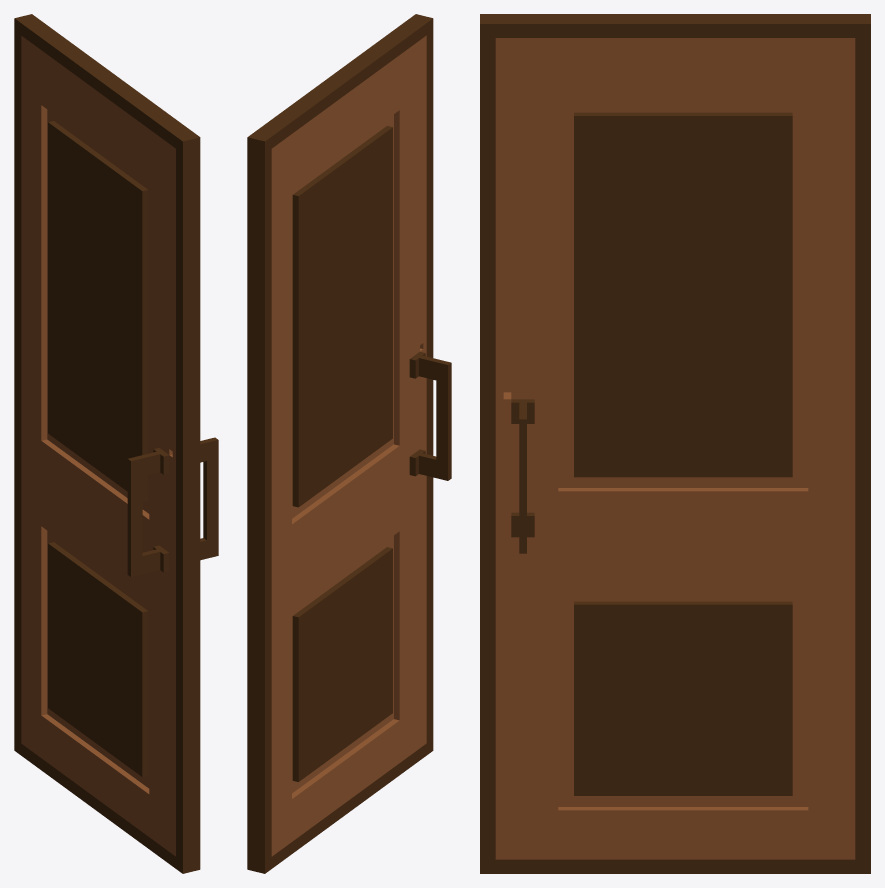
The model's file is SchoolPack-31-double door.obj.
3 views of the same model, side by side, from view 1: azimuth 30°, elevation 25°; view 2: azimuth 150°, elevation 25°; view 3: azimuth 270°, elevation 25° (orthographic). The views are drawn at different scales.
Parts seen in each view (by area): view 1: double door; view 2: double door; view 3: double door.
Boxes of the visible parts, x1,y1,x2,y2 form: double door: (14, 14, 218, 873); double door: (247, 14, 451, 873); double door: (480, 14, 870, 873).
Size of the model in its own units: 1.5 by 12 by 5.
1 material, 1 textured.
